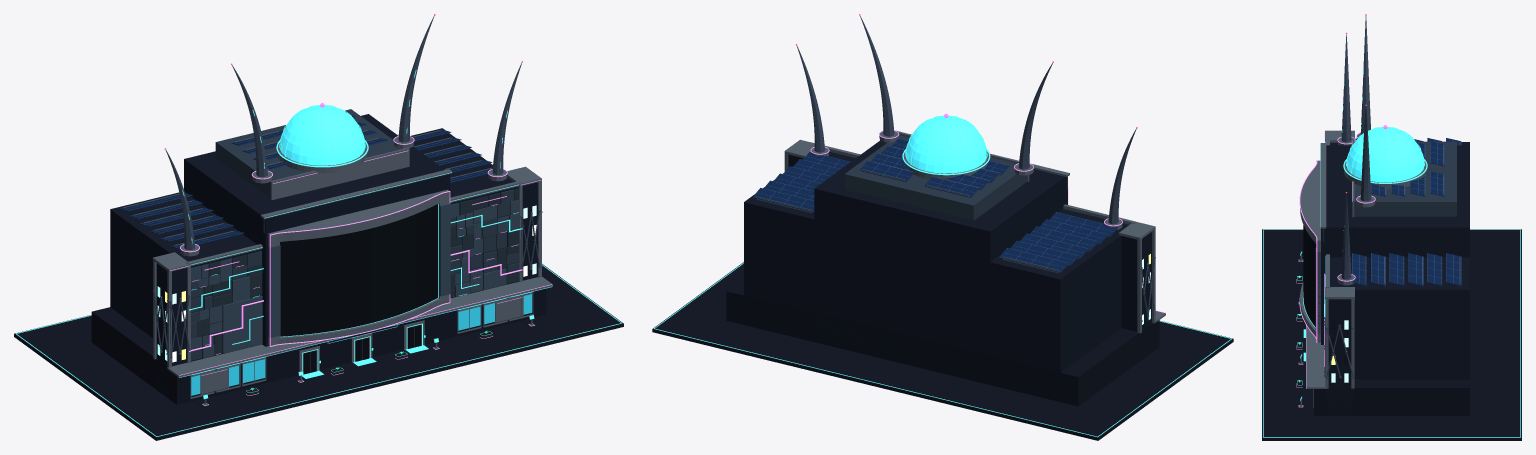
The model's file is edificio-pantalla-neon.glb.
3 renders of one model, left to right at view 1: azimuth 30°, elevation 25°; view 2: azimuth 150°, elevation 25°; view 3: azimuth 270°, elevation 25°, orthographic. The views are drawn at different scales.
Parts seen in each view (by area): view 1: Edificio_Pantalla_BaseOscura, Edificio_Pantalla_NucleoOscuro, Edificio_Pantalla_Titanio, Edificio_Pantalla_PantallaVideo, Edificio_Pantalla_PanelAzulC, Edificio_Pantalla_PanelAzulA, Edificio_Pantalla_NeonCian, Edificio_Pantalla_AceroRed, Edificio_Pantalla_DomoCristal, Edificio_Pantalla_PanelSolar, Edificio_Pantalla_PanelAzulB, Edificio_Pantalla_NeonVioleta (+3 smaller); view 2: Edificio_Pantalla_NucleoOscuro, Edificio_Pantalla_BaseOscura, Edificio_Pantalla_PanelSolar, Edificio_Pantalla_PanelAzulA, Edificio_Pantalla_Titanio, Edificio_Pantalla_DomoCristal, Edificio_Pantalla_AceroRed, Edificio_Pantalla_PanelSolarLineas, Edificio_Pantalla_NeonCian; view 3: Edificio_Pantalla_BaseOscura, Edificio_Pantalla_NucleoOscuro, Edificio_Pantalla_Titanio, Edificio_Pantalla_PanelSolar, Edificio_Pantalla_PanelAzulA, Edificio_Pantalla_DomoCristal, Edificio_Pantalla_AceroRed, Edificio_Pantalla_NeonCian, Edificio_Pantalla_PantallaVideo, Edificio_Pantalla_PanelSolarLineas, Edificio_Pantalla_NeonVioleta, Edificio_Pantalla_PanelAzulC.
Boxes of the visible parts, x1,y1,x2,y2 form: Edificio_Pantalla_BaseOscura: (14, 264, 623, 440); Edificio_Pantalla_NucleoOscuro: (110, 114, 537, 398); Edificio_Pantalla_Titanio: (123, 122, 552, 405); Edificio_Pantalla_PantallaVideo: (280, 204, 437, 336); Edificio_Pantalla_PanelAzulC: (191, 199, 519, 370); Edificio_Pantalla_PanelAzulA: (191, 109, 519, 360); Edificio_Pantalla_NeonCian: (16, 70, 621, 436); Edificio_Pantalla_AceroRed: (153, 15, 542, 358); Edificio_Pantalla_DomoCristal: (280, 105, 364, 165); Edificio_Pantalla_PanelSolar: (119, 115, 492, 249); Edificio_Pantalla_PanelAzulB: (197, 188, 519, 355); Edificio_Pantalla_NeonVioleta: (170, 136, 552, 405); Edificio_Pantalla_NucleoOscuro: (744, 140, 1151, 400); Edificio_Pantalla_BaseOscura: (652, 262, 1233, 440); Edificio_Pantalla_PanelSolar: (753, 139, 1117, 272); Edificio_Pantalla_PanelAzulA: (844, 135, 1027, 220); Edificio_Pantalla_Titanio: (756, 130, 1165, 333); Edificio_Pantalla_DomoCristal: (906, 116, 986, 173); Edificio_Pantalla_AceroRed: (796, 15, 1155, 321); Edificio_Pantalla_PanelSolarLineas: (753, 138, 1117, 272); Edificio_Pantalla_NeonCian: (654, 115, 1231, 437); Edificio_Pantalla_BaseOscura: (1262, 229, 1521, 440); Edificio_Pantalla_NucleoOscuro: (1321, 142, 1469, 415); Edificio_Pantalla_Titanio: (1299, 130, 1460, 407); Edificio_Pantalla_PanelSolar: (1352, 138, 1460, 285); Edificio_Pantalla_PanelAzulA: (1354, 141, 1456, 216); Edificio_Pantalla_DomoCristal: (1346, 127, 1424, 182); Edificio_Pantalla_AceroRed: (1324, 15, 1371, 378); Edificio_Pantalla_NeonCian: (1263, 69, 1520, 437); Edificio_Pantalla_PantallaVideo: (1303, 225, 1316, 326); Edificio_Pantalla_PanelSolarLineas: (1352, 138, 1461, 285); Edificio_Pantalla_NeonVioleta: (1296, 132, 1375, 407); Edificio_Pantalla_PanelAzulC: (1315, 248, 1320, 334).
Bounding box in the file's own units: 76 × 47.12 × 40.
